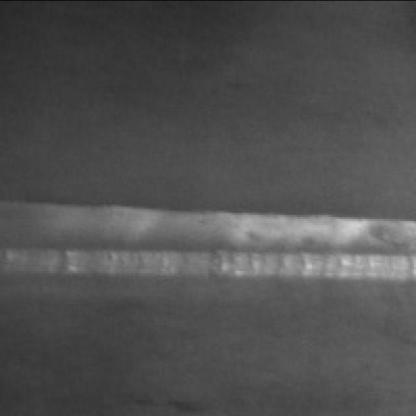scratches: (0, 196, 412, 289)
